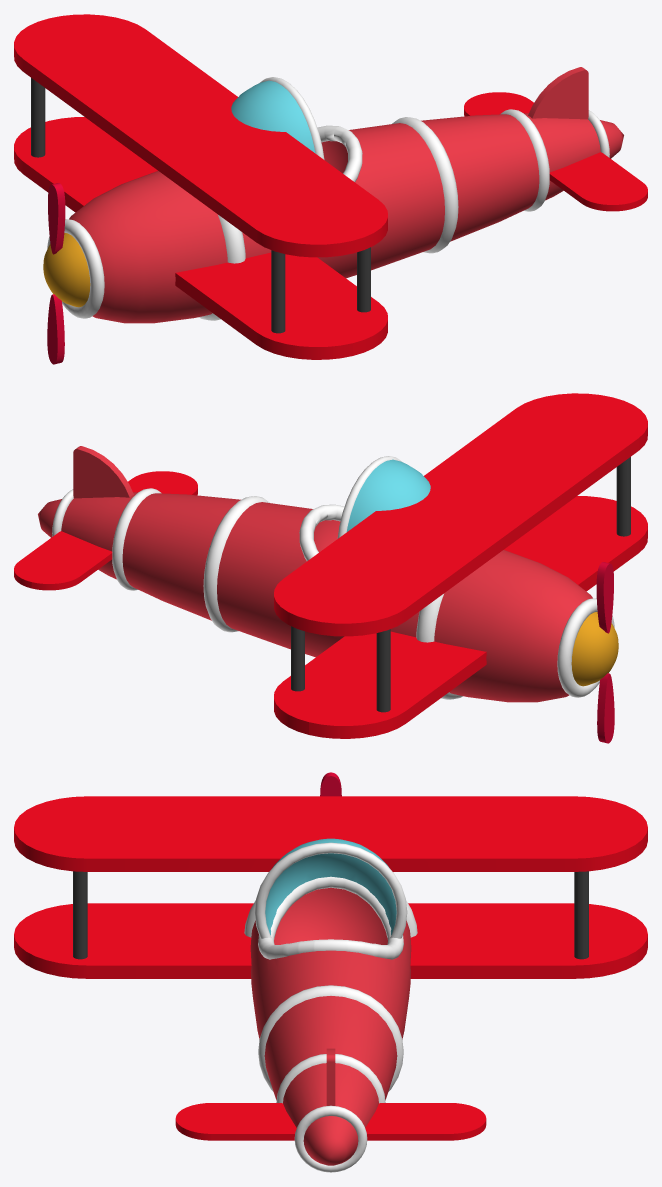
The picture shows the model from 3 angles, top to bottom: view 1: azimuth 30°, elevation 25°; view 2: azimuth 150°, elevation 25°; view 3: azimuth 270°, elevation 25°; orthographic projection. The views are drawn at different scales.
Parts seen in each view (by area): view 1: 立方体.001, 立方体, 球.010, 円柱.001, 球.002, 球.001, 円.001; view 2: 立方体.001, 立方体, 球.010, 円柱.001, 球.002, 球.001, 円.001; view 3: 立方体.001, 立方体, 球.010, 球.002, 円柱.001.
Part boxes in pixels (<box>): 立方体.001: <box>14,14,647,359</box>; 立方体: <box>69,67,623,323</box>; 球.010: <box>47,77,609,320</box>; 円柱.001: <box>31,78,370,333</box>; 球.002: <box>231,80,315,152</box>; 球.001: <box>43,233,90,307</box>; 円.001: <box>47,183,65,364</box>; 立方体.001: <box>14,393,647,738</box>; 立方体: <box>38,446,592,702</box>; 球.010: <box>52,456,614,699</box>; 円柱.001: <box>291,457,630,712</box>; 球.002: <box>346,459,430,531</box>; 球.001: <box>571,612,618,686</box>; 円.001: <box>596,562,614,743</box>; 立方体.001: <box>14,796,647,1140</box>; 立方体: <box>250,887,411,1165</box>; 球.010: <box>244,842,417,1172</box>; 球.002: <box>265,838,396,935</box>; 円柱.001: <box>73,871,588,959</box>.
Size of the model in its own units: 940 by 351 by 860.
